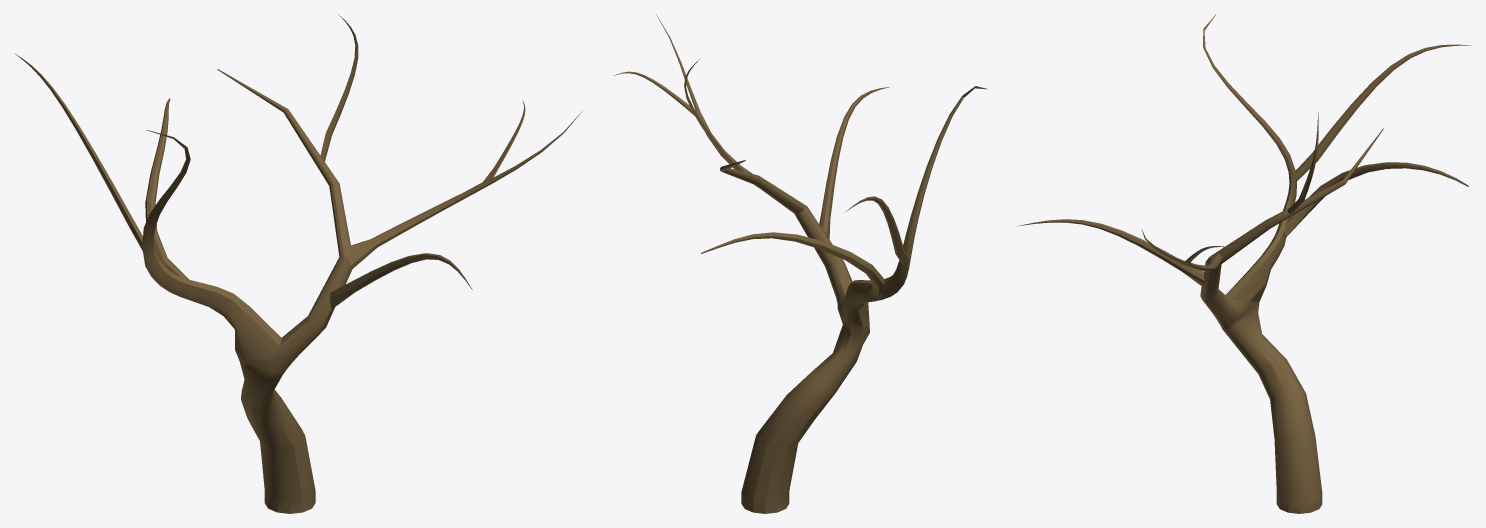
Rendered from tree_3_withleaves.fbx.
The picture shows the model from 3 angles, left to right: view 1: azimuth 30°, elevation 25°; view 2: azimuth 150°, elevation 25°; view 3: azimuth 270°, elevation 25°; orthographic projection. The views are drawn at different scales.
Parts seen in each view (by area): view 1: pCylinder2; view 2: pCylinder2; view 3: pCylinder2.
Boxes of the visible parts, x1,y1,x2,y2 form: pCylinder2: (15, 14, 582, 513); pCylinder2: (614, 14, 987, 513); pCylinder2: (1017, 14, 1471, 513).
Bounding box in the file's own units: 71.52 × 80.99 × 79.69.
